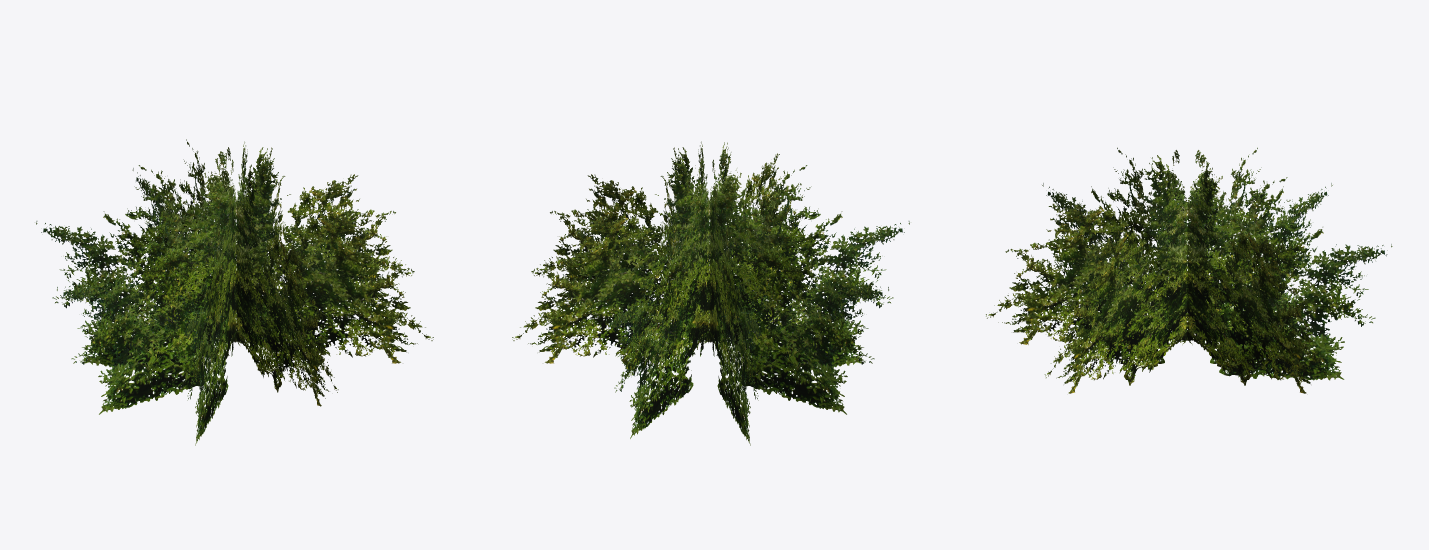
Rendered from bush.glb.
The picture shows the model from 3 angles, left to right: view 1: azimuth 30°, elevation 25°; view 2: azimuth 150°, elevation 25°; view 3: azimuth 270°, elevation 25°; orthographic projection.
Visible parts, largest first — view 1: png-bush-1-by-moonglowlilly-png-bush-1-by-moonglowlilly-102. (×2), png-bush-1-by-moonglowlilly-png-bush-1-by-moonglowlilly-102, png-bush-1-by-moonglowlilly-png-bush-1-by-moonglowlilly-1024; view 2: png-bush-1-by-moonglowlilly-png-bush-1-by-moonglowlilly-102. (×2), png-bush-1-by-moonglowlilly-png-bush-1-by-moonglowlilly-102, png-bush-1-by-moonglowlilly-png-bush-1-by-moonglowlilly-1024; view 3: png-bush-1-by-moonglowlilly-png-bush-1-by-moonglowlilly-102. (×2), png-bush-1-by-moonglowlilly-png-bush-1-by-moonglowlilly-1024.
Boxes of the visible parts, x1,y1,x2,y2 form: png-bush-1-by-moonglowlilly-png-bush-1-by-moonglowlilly-102. (×2): [36, 141, 433, 445]; png-bush-1-by-moonglowlilly-png-bush-1-by-moonglowlilly-102: [57, 147, 413, 414]; png-bush-1-by-moonglowlilly-png-bush-1-by-moonglowlilly-1024: [132, 139, 338, 406]; png-bush-1-by-moonglowlilly-png-bush-1-by-moonglowlilly-102. (×2): [512, 141, 909, 445]; png-bush-1-by-moonglowlilly-png-bush-1-by-moonglowlilly-102: [532, 147, 888, 414]; png-bush-1-by-moonglowlilly-png-bush-1-by-moonglowlilly-1024: [605, 142, 807, 438]; png-bush-1-by-moonglowlilly-png-bush-1-by-moonglowlilly-102. (×2): [1042, 147, 1332, 393]; png-bush-1-by-moonglowlilly-png-bush-1-by-moonglowlilly-1024: [986, 154, 1392, 380].
Size of the model in its own units: 1.25 by 1 by 1.25.
Materials: 1 (1 with a texture image).
